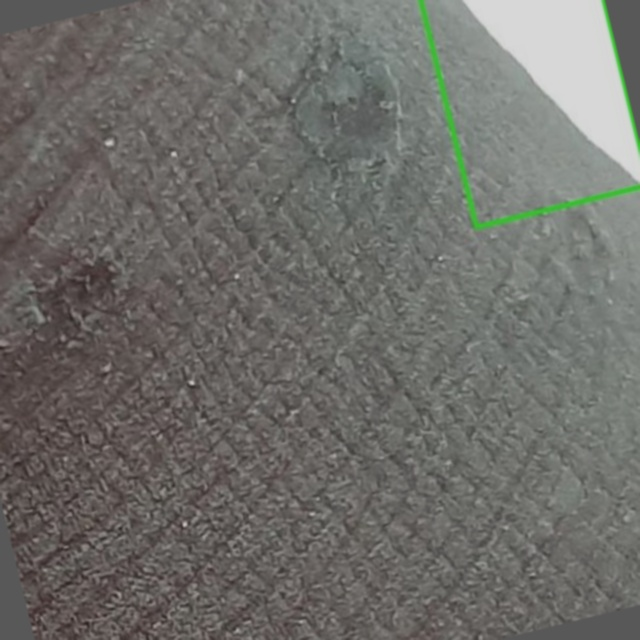Contact Dermatitis: (420, 0, 639, 228)
